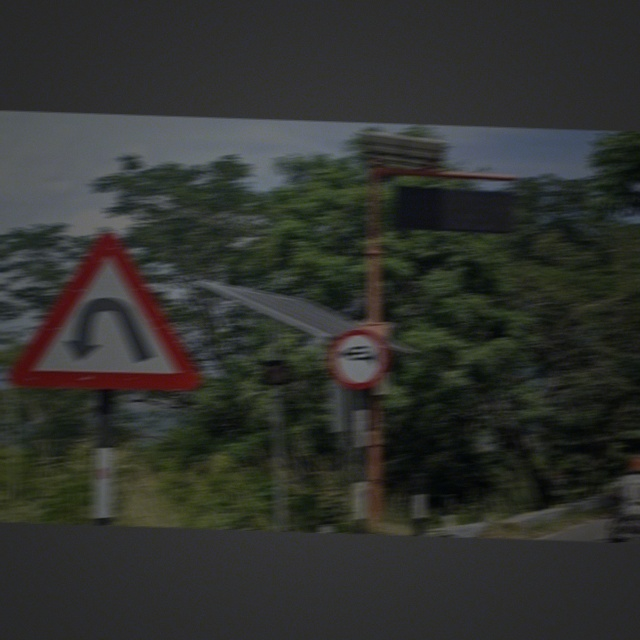Left_Hair_Pin_Bend: (10, 228, 210, 397)
